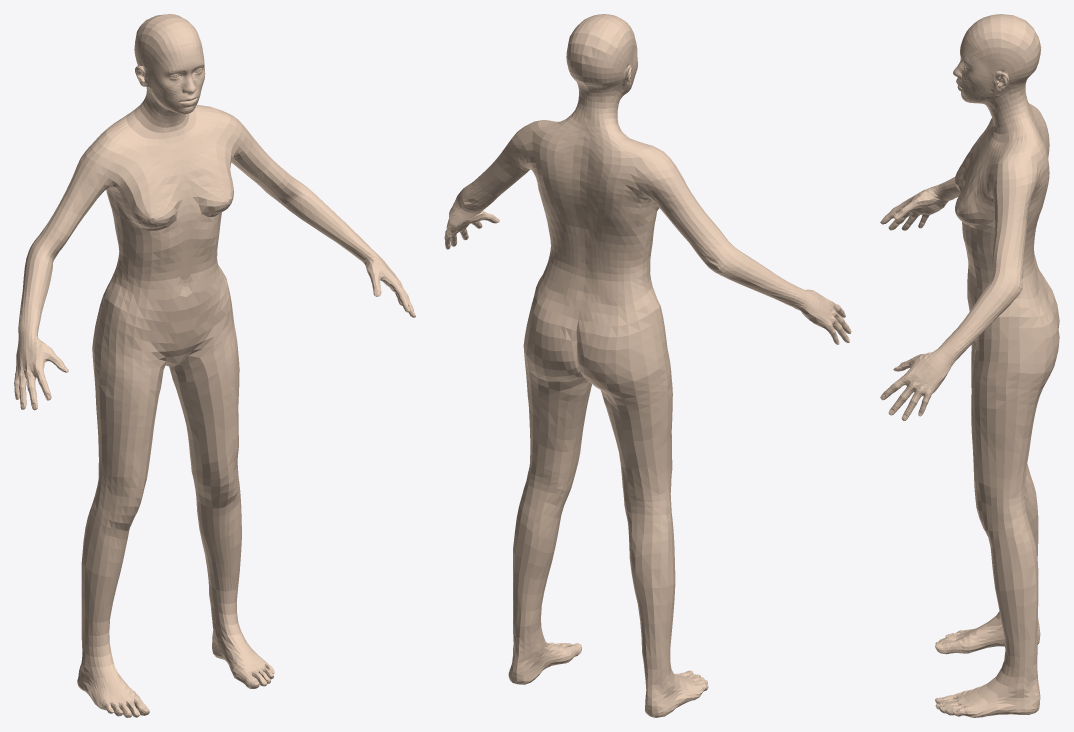
File: female-adult-fit-toned.glb
The picture shows the model from 3 angles, left to right: view 1: azimuth 30°, elevation 25°; view 2: azimuth 150°, elevation 25°; view 3: azimuth 270°, elevation 25°; orthographic projection.
Parts seen in each view (by area): view 1: world; view 2: world; view 3: world.
Part boxes in pixels (bbox=[...]): world: bbox=[14, 14, 415, 717]; world: bbox=[444, 14, 851, 717]; world: bbox=[880, 14, 1059, 717].
Size of the model in its own units: 1.12 by 1.81 by 0.4441.
